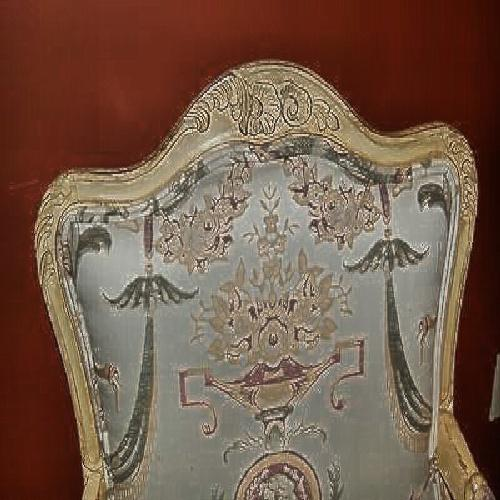chair: (37, 76, 485, 486)
